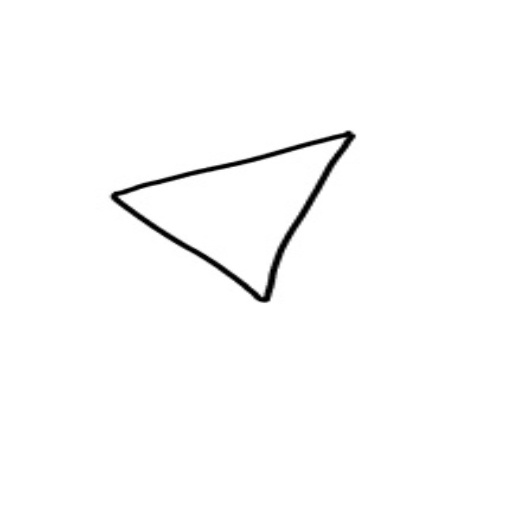triangle: (100, 117, 373, 309)
